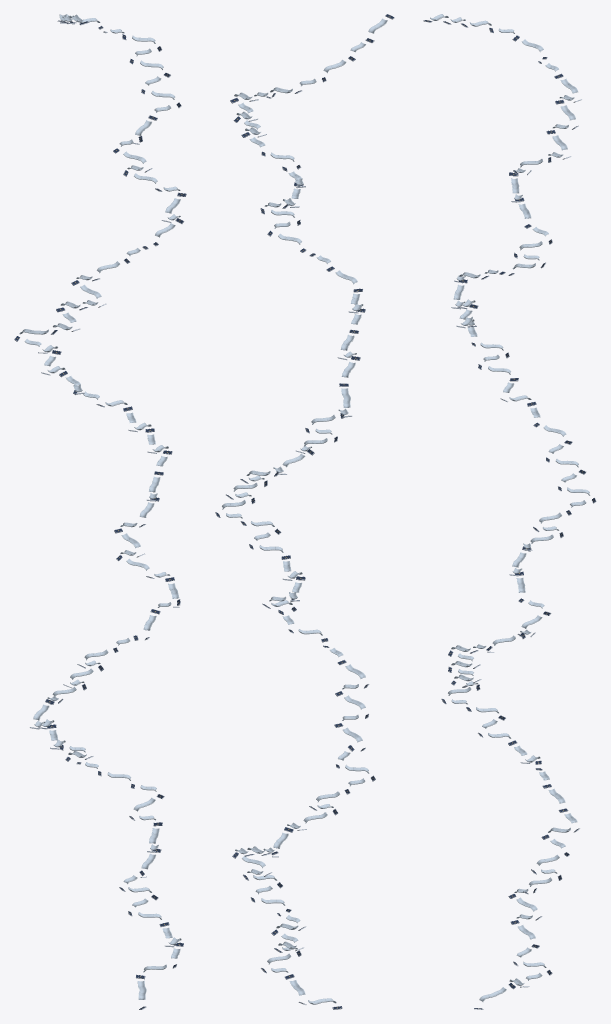
The model's file is C-route-v027-09.glb.
3 renders of one model, left to right at view 1: azimuth 30°, elevation 25°; view 2: azimuth 150°, elevation 25°; view 3: azimuth 330°, elevation 25°, orthographic. The views are drawn at different scales.
Size of the model in its own units: 0.448 by 2.84 by 0.3684.
5 materials, 1 textured.
